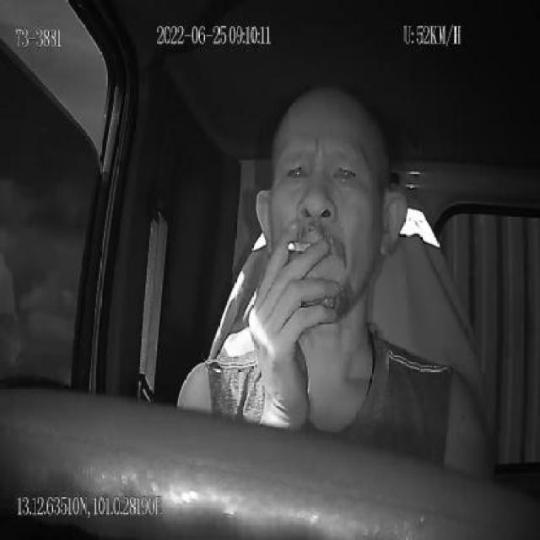smoking: (286, 237, 312, 254)
